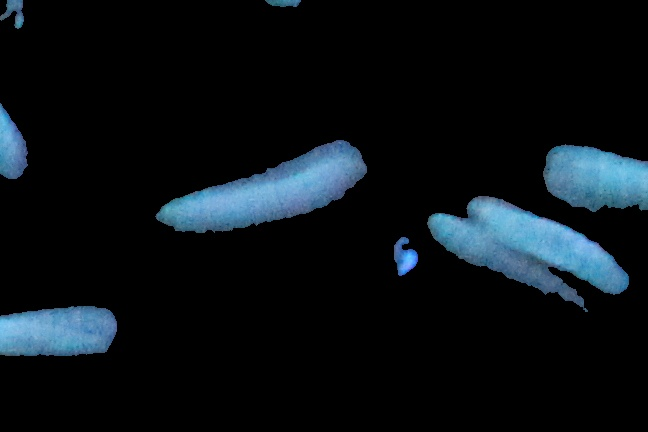larvae: (152, 135, 369, 234), (415, 208, 592, 317), (466, 188, 630, 301), (540, 142, 648, 217), (1, 301, 118, 353), (1, 83, 29, 184)
